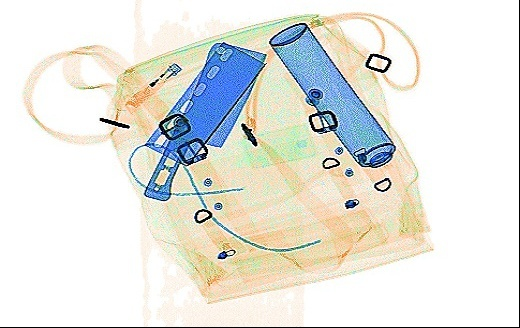knife: (141, 40, 265, 201)
lighter: (124, 61, 181, 109)
pressure: (267, 21, 412, 189)
